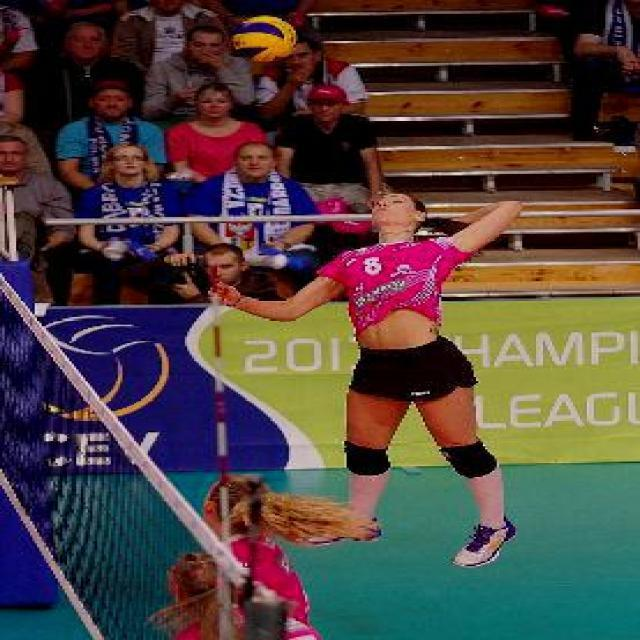volleyball: (232, 15, 296, 63)
